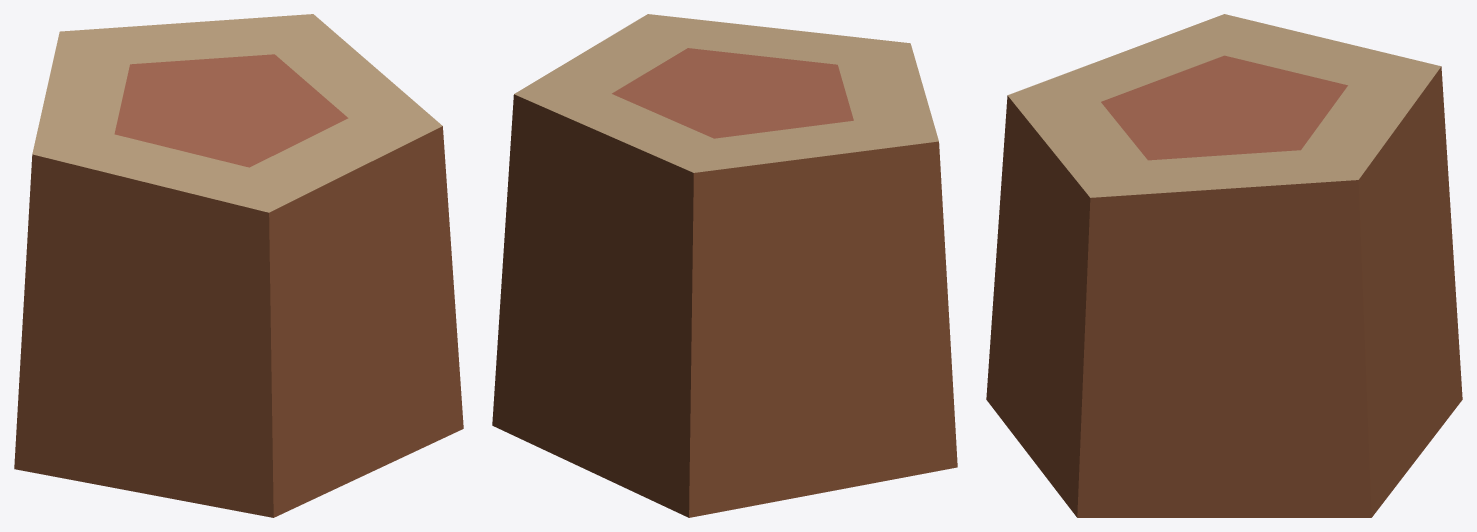
The model's file is TB_Env_Trunk_Short_D.FBX.
3 views of the same model, side by side, from view 1: azimuth 30°, elevation 25°; view 2: azimuth 150°, elevation 25°; view 3: azimuth 270°, elevation 25° (orthographic). The views are drawn at different scales.
Visible parts, largest first — view 1: TB_Env_Trunk_Short_D; view 2: TB_Env_Trunk_Short_D; view 3: TB_Env_Trunk_Short_D.
Boxes of the visible parts, x1,y1,x2,y2 form: TB_Env_Trunk_Short_D: (14,14,463,517); TB_Env_Trunk_Short_D: (492,14,957,517); TB_Env_Trunk_Short_D: (986,14,1462,517).
Size of the model in its own units: 0.6858 by 0.5615 by 0.7211.
